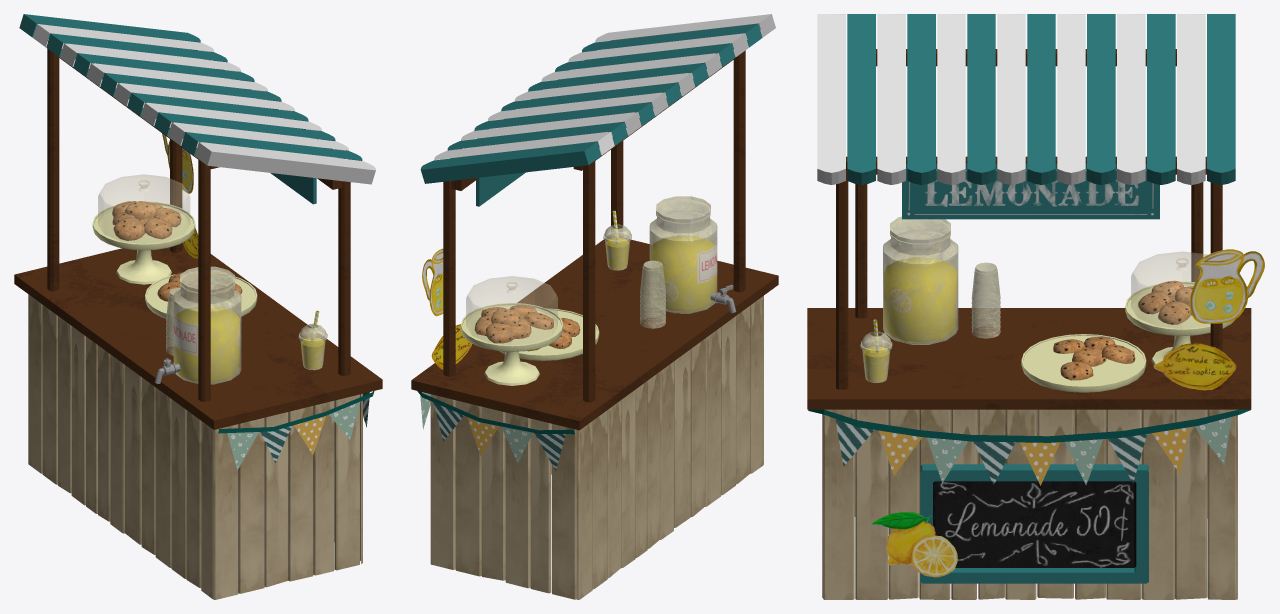
Rendered from updated_lemonade_stand.glb.
3 renders of one model, left to right at view 1: azimuth 30°, elevation 25°; view 2: azimuth 150°, elevation 25°; view 3: azimuth 270°, elevation 25°, orthographic. The views are drawn at different scales.
Parts seen in each view (by area): view 1: stand, Circle.001, plate cap, decor, cookie plate, cookies, Circle.003, Circle.002; view 2: stand, Circle.001, decor, plate cap, cookie plate, cookies, Circle.002, Circle.003; view 3: stand, decor, Circle.001, cookie plate, plate cap, cookies, Circle.002, Circle.003.
Boxes of the visible parts, x1,y1,x2,y2 form: stand: (14,14,382,599); Circle.001: (154,266,241,384); plate cap: (98,174,189,243); decor: (162,133,374,433); cookie plate: (92,201,257,318); cookies: (112,201,242,301); Circle.003: (298,310,327,370); Circle.002: (166,288,180,355); stand: (411,14,778,599); Circle.001: (649,196,736,313); decor: (417,235,716,434); plate cap: (466,276,557,345); cookie plate: (461,303,599,385); cookies: (474,305,580,351); Circle.002: (640,260,665,328); Circle.003: (603,210,631,270); stand: (807,14,1251,599); decor: (808,249,1264,577); Circle.001: (883,216,958,344); cookie plate: (1021,281,1234,392); plate cap: (1131,251,1210,328); cookies: (1053,280,1193,380); Circle.002: (971,262,1000,338); Circle.003: (860,319,892,382).
Size of the model in its own units: 0.6506 by 1.57 by 1.3.
Materials: 3 (3 with a texture image).
